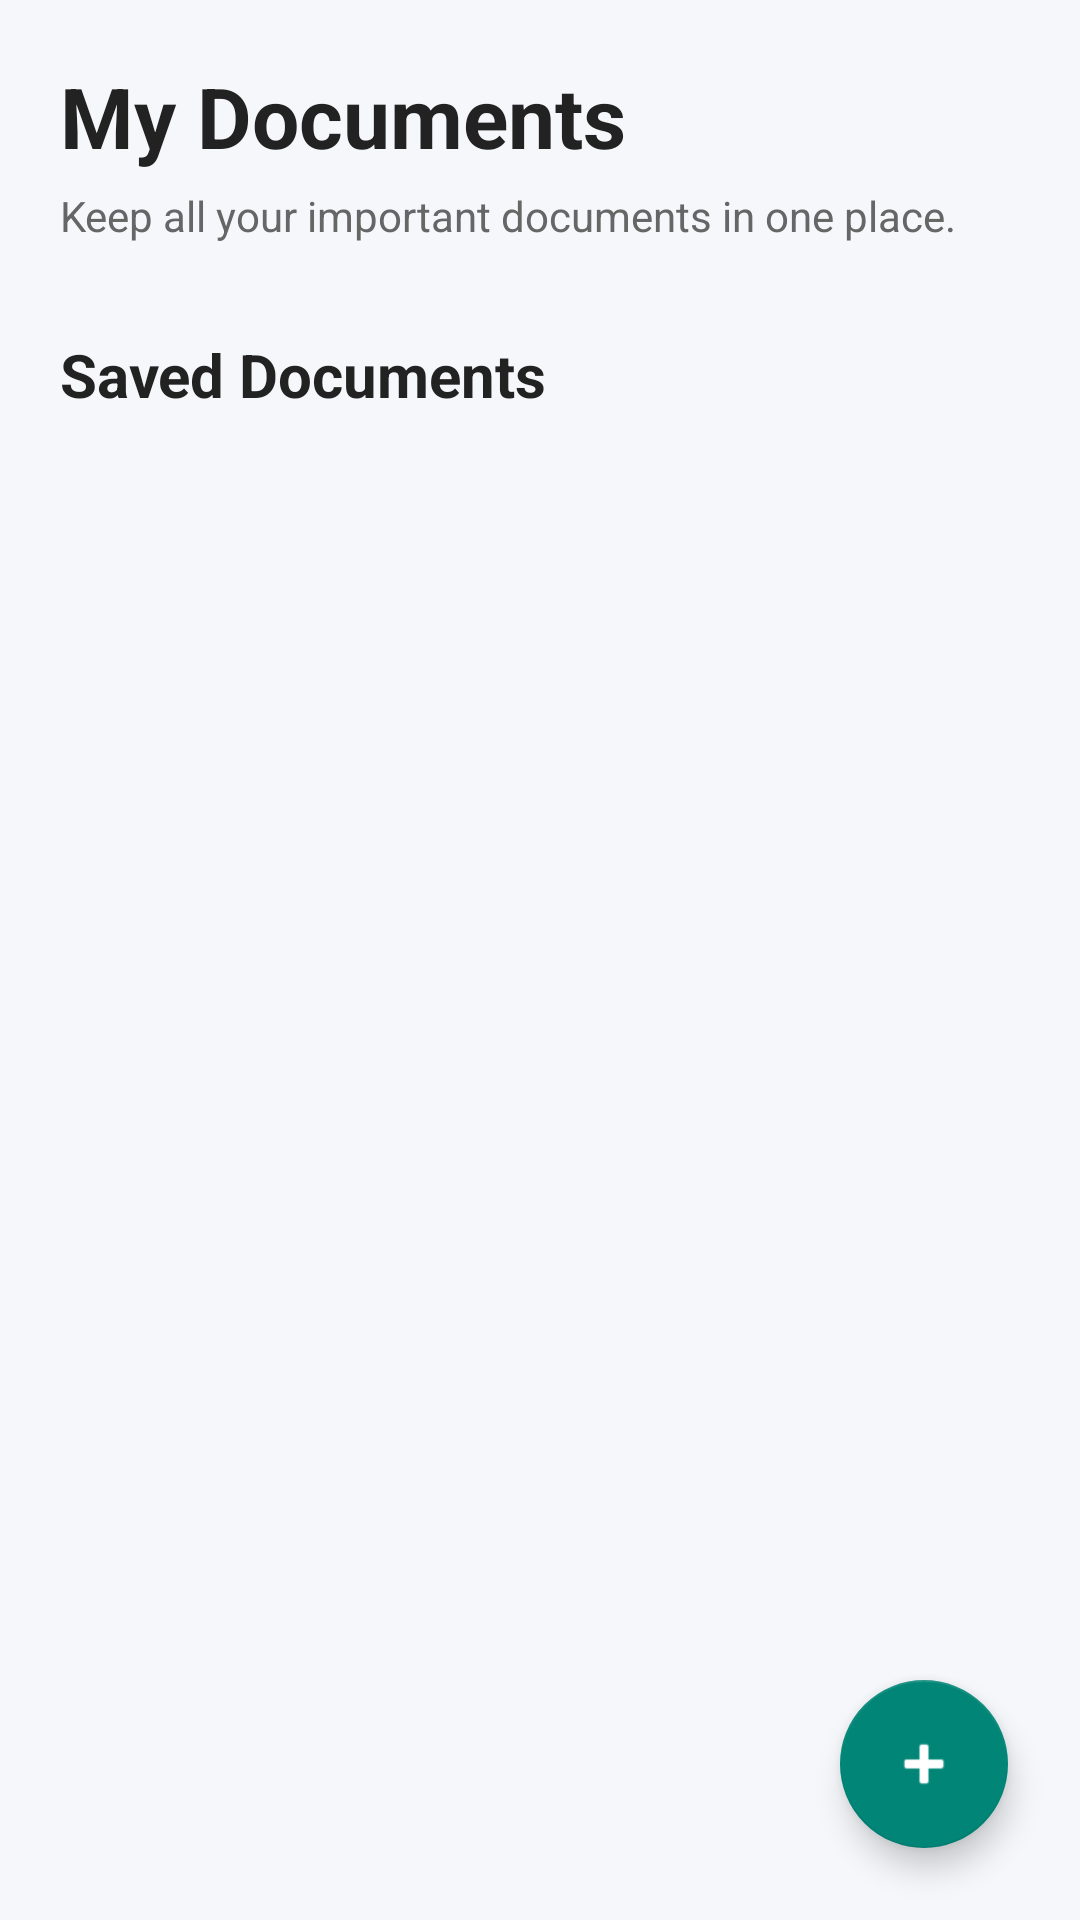

Where to tap for icons on this 1080 x 1920 app screen, as point (x, y):
Add Document: point (924, 1764)
